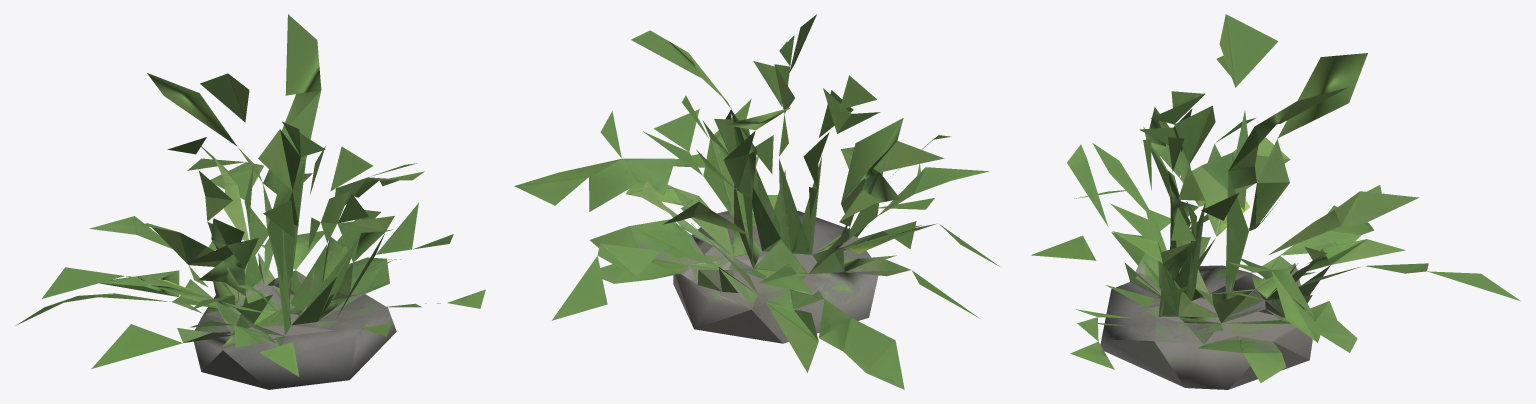
The model's file is Ferns.glb.
3 views of the same model, side by side, from view 1: azimuth 30°, elevation 25°; view 2: azimuth 150°, elevation 25°; view 3: azimuth 270°, elevation 25° (orthographic). The views are drawn at different scales.
Visible parts, largest first — view 1: mesh_node; view 2: mesh_node; view 3: mesh_node.
Boxes of the visible parts, x1,y1,x2,y2 form: mesh_node: [15, 14, 485, 389]; mesh_node: [514, 14, 999, 389]; mesh_node: [1031, 14, 1520, 389].
Bounding box in the file's own units: 0.3092 × 0.2 × 0.2909.
1 material, 1 textured.
